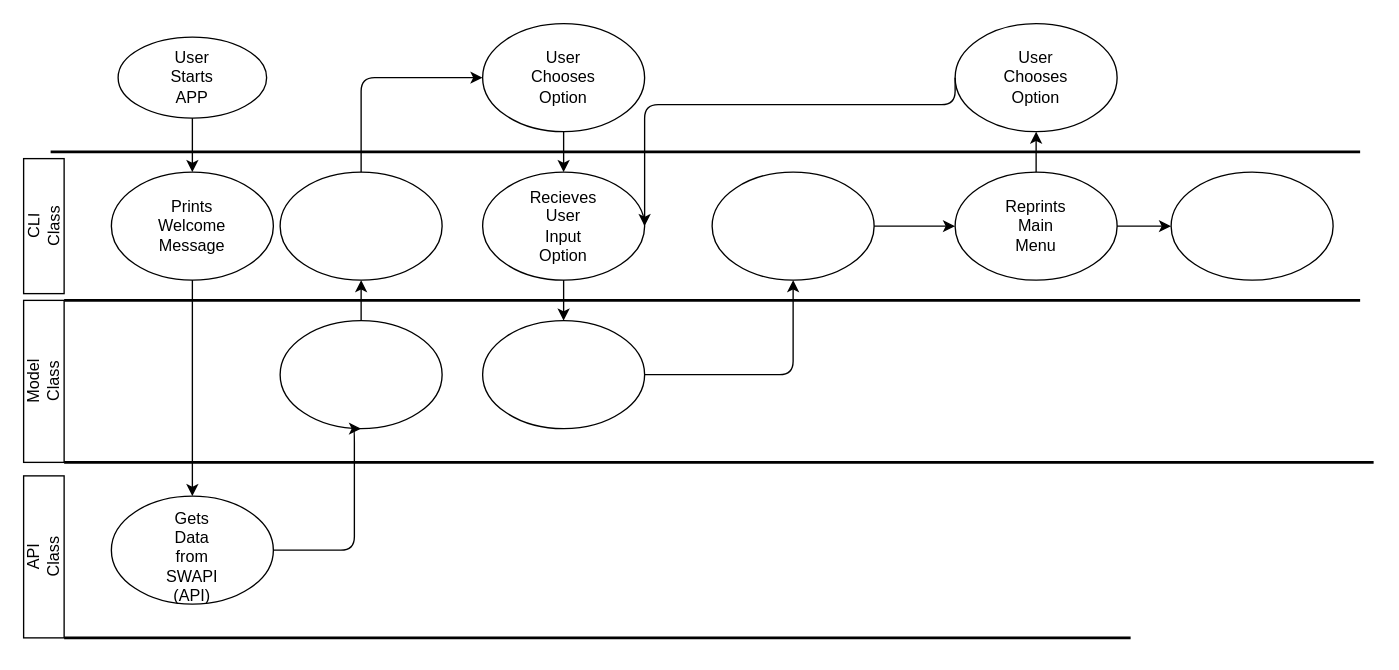
This 1399x670 diagram has some shape labels left out. The box of each missing label's shape, as (x1, y1, x2, y2) in pixels:
Prints Data on Selected Input: (711, 171, 874, 280)
Prints Options: (279, 171, 442, 280)
Program Ends if User Exits: (1170, 171, 1333, 280)
Retrieves the Data: (481, 319, 645, 429)
SWAPI Objects Created: (279, 319, 442, 429)
